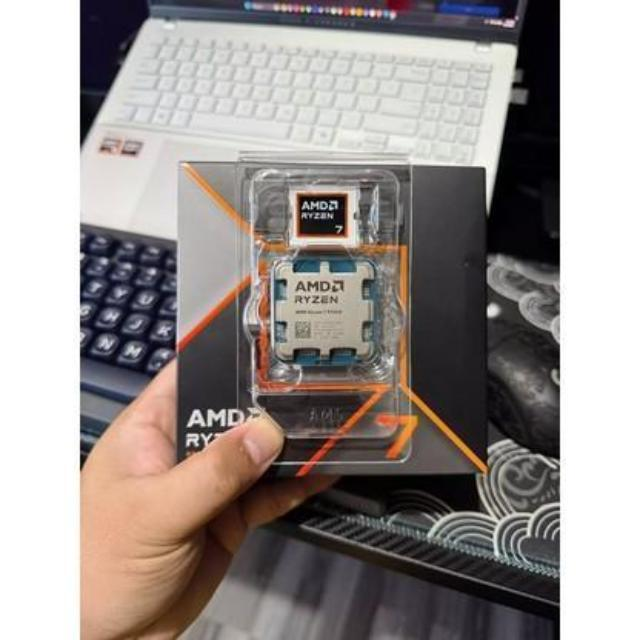CPU: (268, 262, 378, 370)
